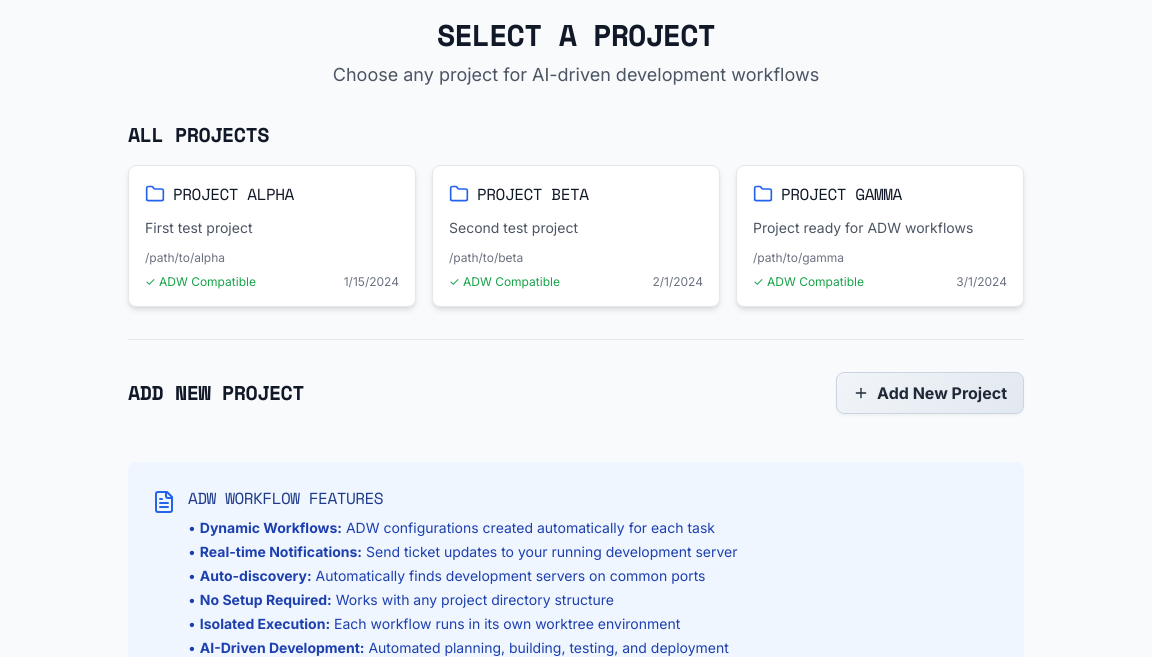
ProjectSelector Component › Add New Project › should disable "Add Project" button when fields are empty
The image size is (1152, 657).
Click the button "Add New Project": (930, 393) [836,372,1024,414]
(page scrolled)
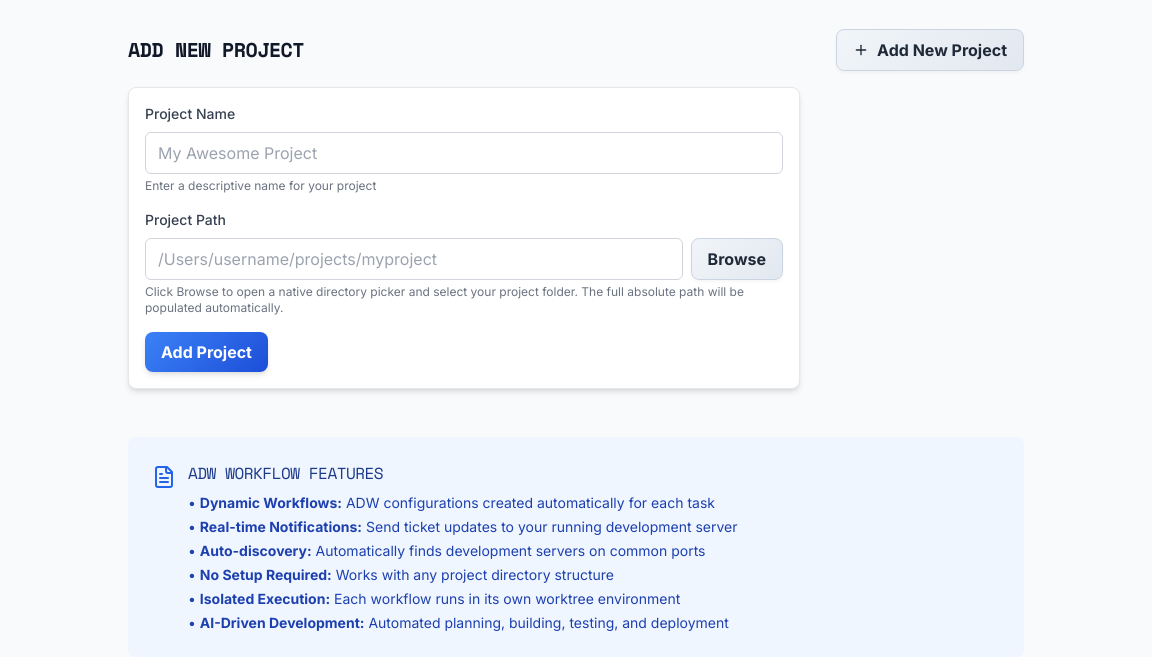
Now the button "Add Project" is disabled, box [145,332,268,372]
